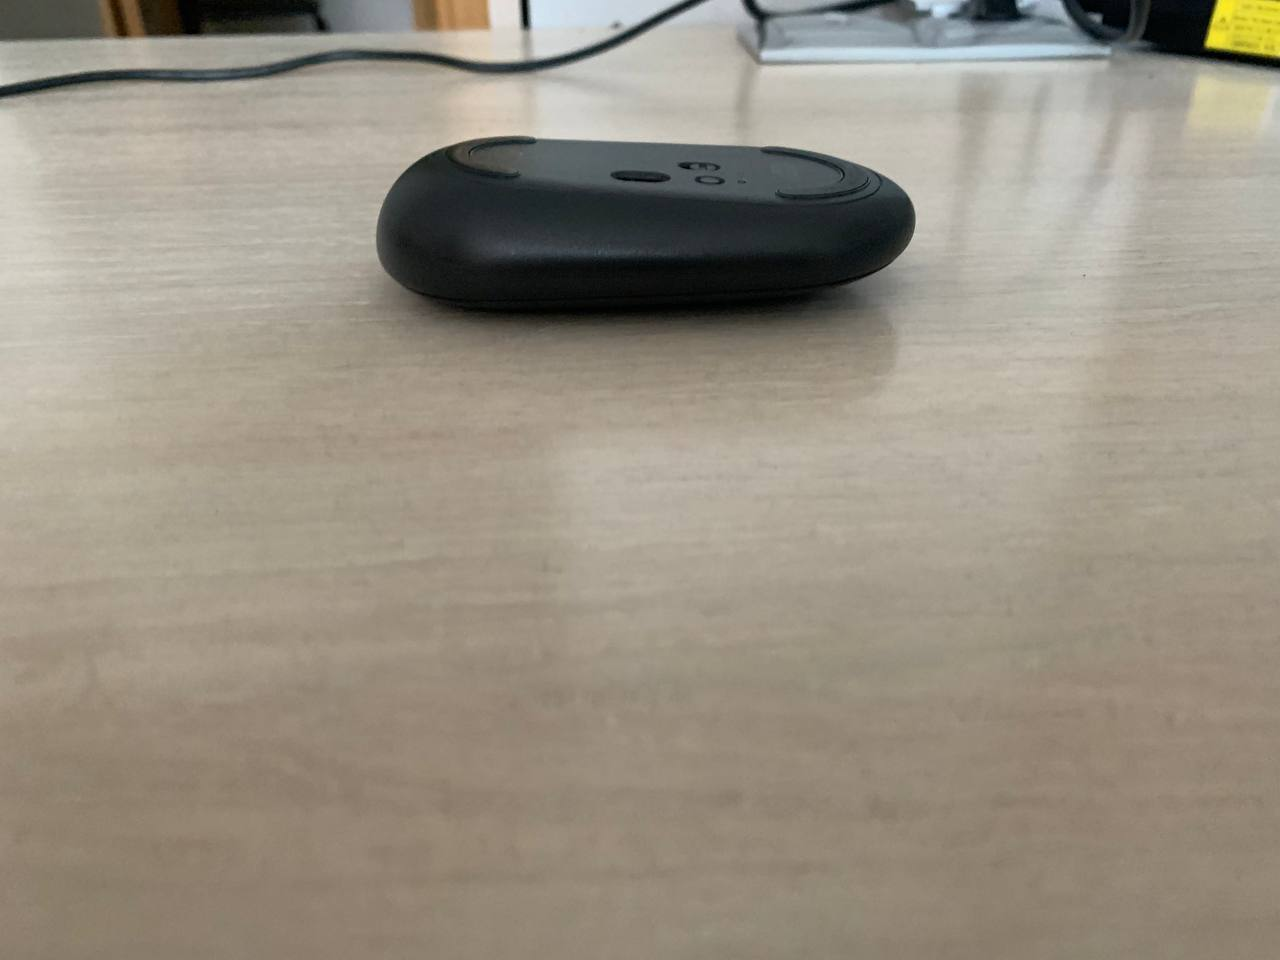mouse: (376, 137, 916, 310)
